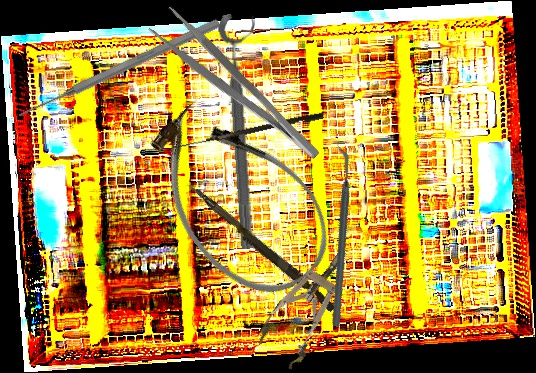Cannula: (124, 81, 351, 317)
Chopper: (263, 145, 415, 329)
Dressing Forceps: (147, 3, 324, 176)
Fixation Ring: (217, 12, 274, 250)
Hook Surgical: (173, 109, 324, 156)
Pusher: (15, 15, 222, 123), (183, 182, 339, 313)
Speculum: (251, 237, 366, 373)
